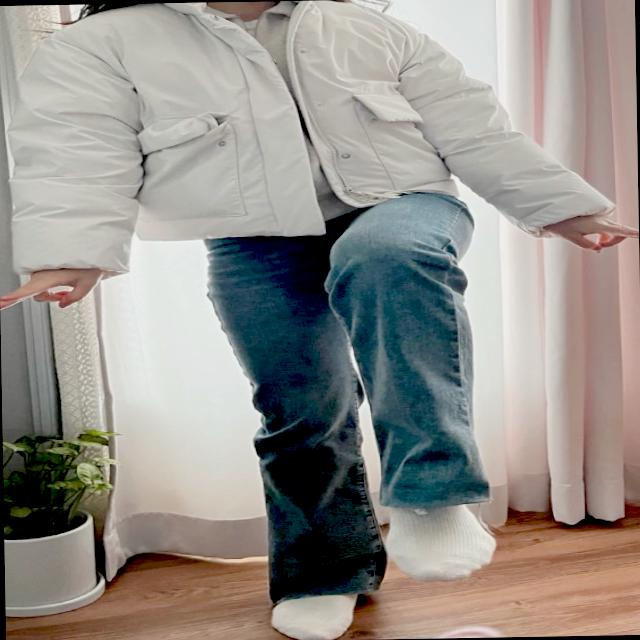denimpants: (202, 188, 492, 606)
padding: (4, 0, 618, 267)
